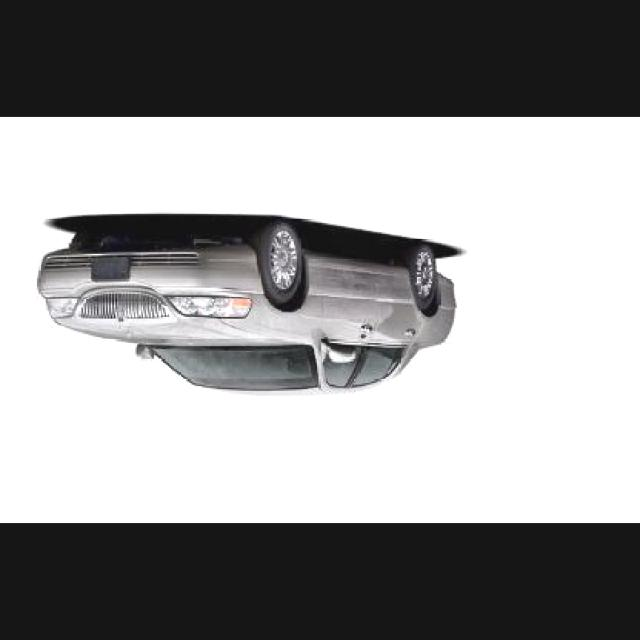silver: (38, 223, 455, 394)
